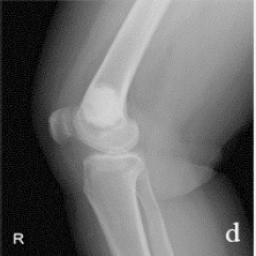cancer: (79, 77, 126, 129)
